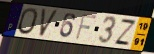3: (97, 15, 117, 46)
6: (59, 13, 76, 40)
F: (74, 13, 99, 42)
O: (17, 7, 40, 36)
V: (38, 8, 59, 39)
Z: (113, 18, 138, 48)
